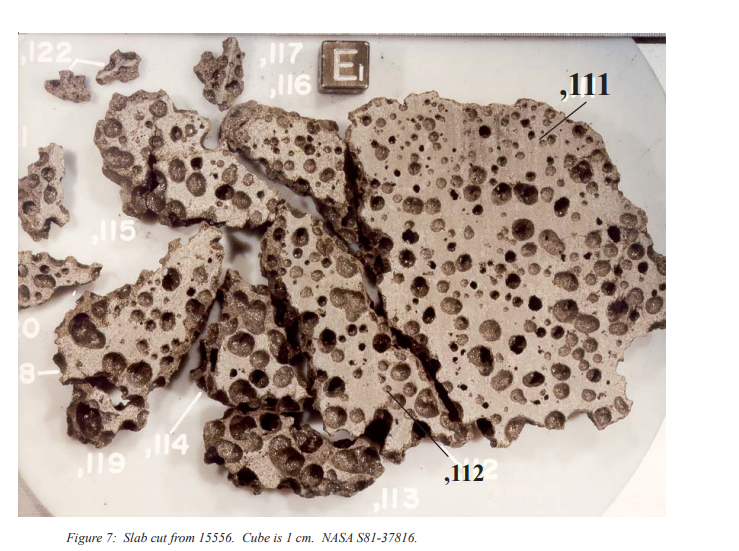Basalt: (104, 81, 373, 493), (329, 112, 637, 424), (52, 299, 346, 431), (88, 111, 277, 258)
